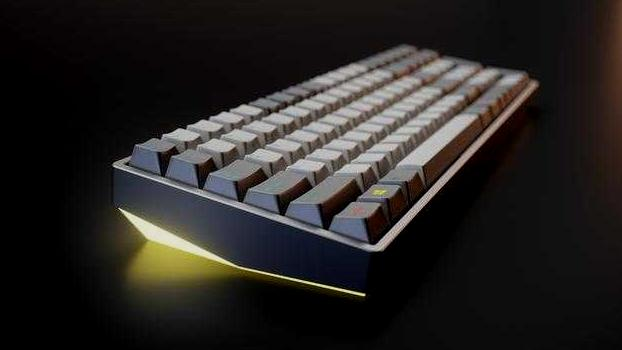keyboard: (104, 34, 544, 301)
